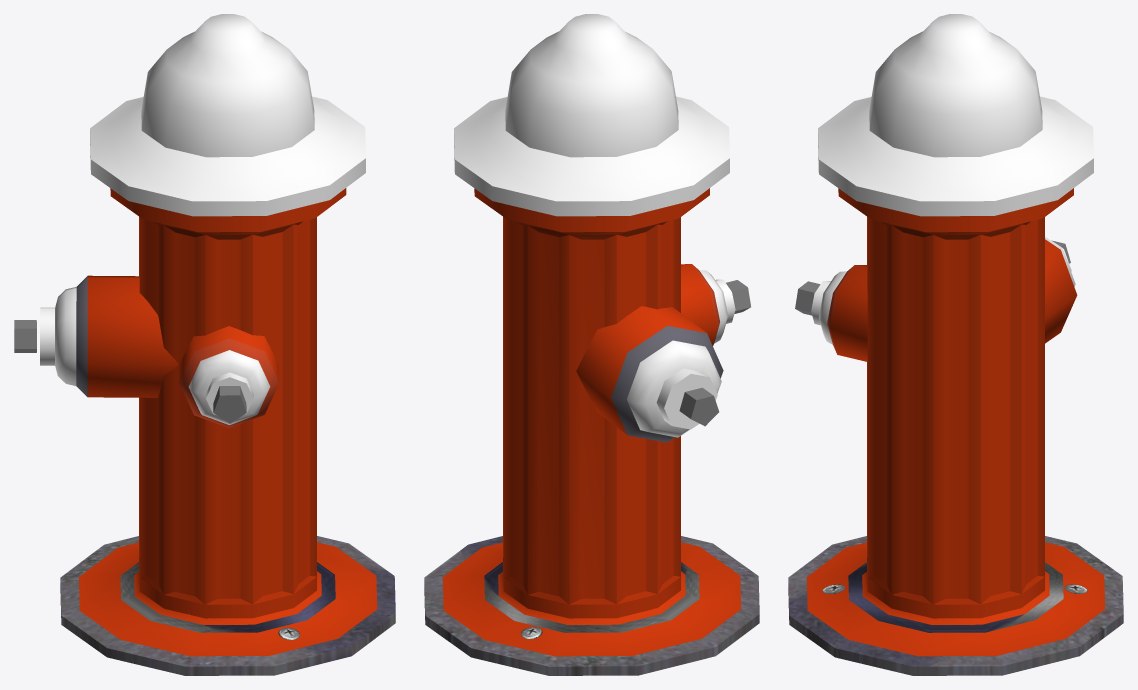
3 renders of one model, left to right at view 1: azimuth 30°, elevation 25°; view 2: azimuth 150°, elevation 25°; view 3: azimuth 270°, elevation 25°, orthographic.
Visible parts, largest first — view 1: Joint_0_Object_3, Joint_0_Object_4, Joint_0_Object_0, Joint_0_Object_1, Joint_0_Object_10, Joint_0_Object_11, Joint_0_Object_12, Joint_0_Object_13, Joint_0_Object_2, Joint_0_Object_9, Joint_0_Object_5; view 2: Joint_0_Object_3, Joint_0_Object_4, Joint_0_Object_0, Joint_0_Object_1, Joint_0_Object_10, Joint_0_Object_9, Joint_0_Object_13, Joint_0_Object_2, Joint_0_Object_11, Joint_0_Object_5, Joint_0_Object_12; view 3: Joint_0_Object_3, Joint_0_Object_4, Joint_0_Object_0, Joint_0_Object_1, Joint_0_Object_13, Joint_0_Object_11, Joint_0_Object_2, Joint_0_Object_10, Joint_0_Object_12, Joint_0_Object_5.
Part boxes in pixels (x1,y1,x2,y2): Joint_0_Object_3: (139,216,316,618); Joint_0_Object_4: (90,14,365,216); Joint_0_Object_0: (78,542,377,656); Joint_0_Object_1: (60,536,395,675); Joint_0_Object_10: (76,275,178,397); Joint_0_Object_11: (179,326,279,428); Joint_0_Object_12: (188,350,270,425); Joint_0_Object_13: (110,188,346,232); Joint_0_Object_2: (120,562,335,632); Joint_0_Object_9: (40,287,76,385); Joint_0_Object_5: (14,320,246,423); Joint_0_Object_3: (503,217,680,618); Joint_0_Object_4: (454,14,729,216); Joint_0_Object_0: (442,542,741,656); Joint_0_Object_1: (424,536,759,675); Joint_0_Object_10: (576,306,723,442); Joint_0_Object_9: (627,340,721,437); Joint_0_Object_13: (474,188,709,232); Joint_0_Object_2: (484,562,699,632); Joint_0_Object_11: (681,264,719,345); Joint_0_Object_5: (679,280,750,426); Joint_0_Object_12: (699,270,735,343); Joint_0_Object_3: (867,217,1044,618); Joint_0_Object_4: (818,14,1093,216); Joint_0_Object_0: (806,542,1105,656); Joint_0_Object_1: (788,536,1123,675); Joint_0_Object_13: (838,188,1073,232); Joint_0_Object_11: (827,265,867,361); Joint_0_Object_2: (848,562,1063,632); Joint_0_Object_10: (1045,239,1077,343); Joint_0_Object_12: (811,271,846,344); Joint_0_Object_5: (795,240,1070,315).
Bounding box in the file's own units: 579 × 1019 × 533.
12 materials, 7 textured.
